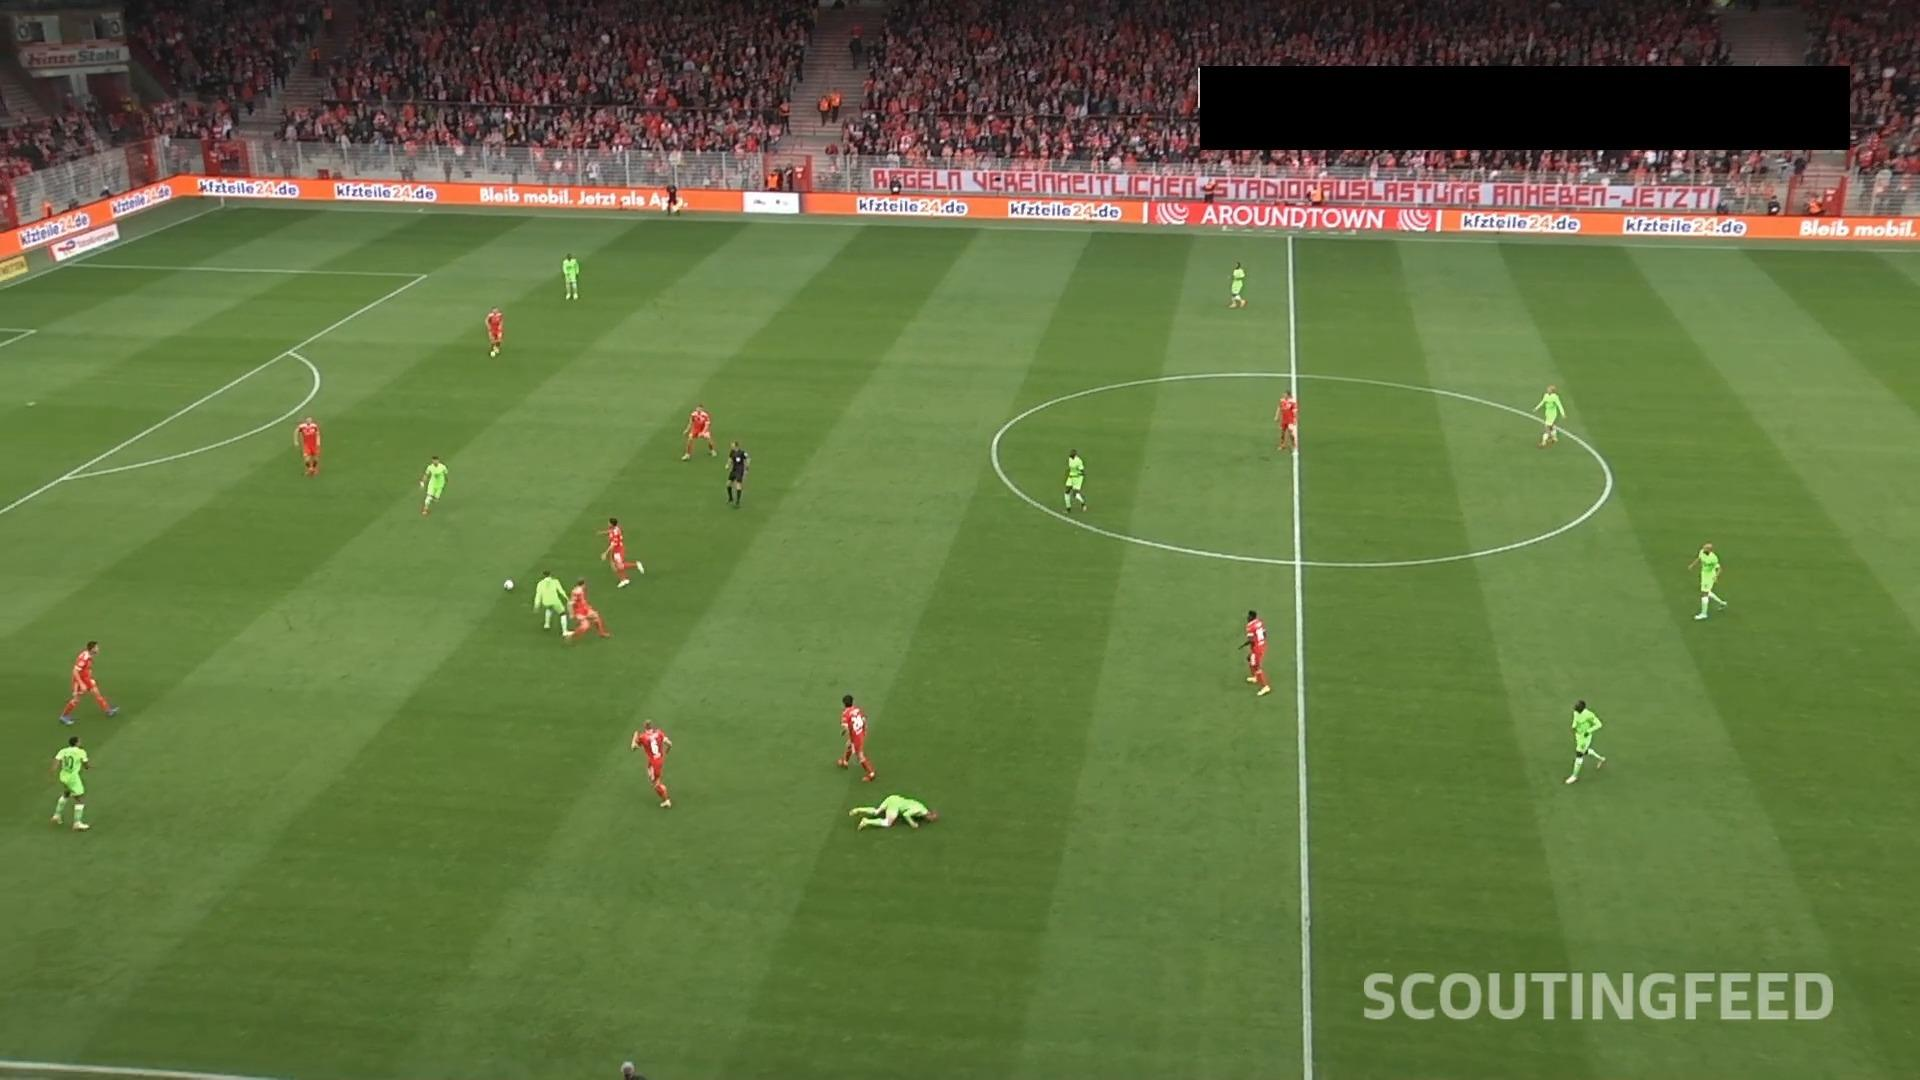ball: (504, 579, 514, 592)
